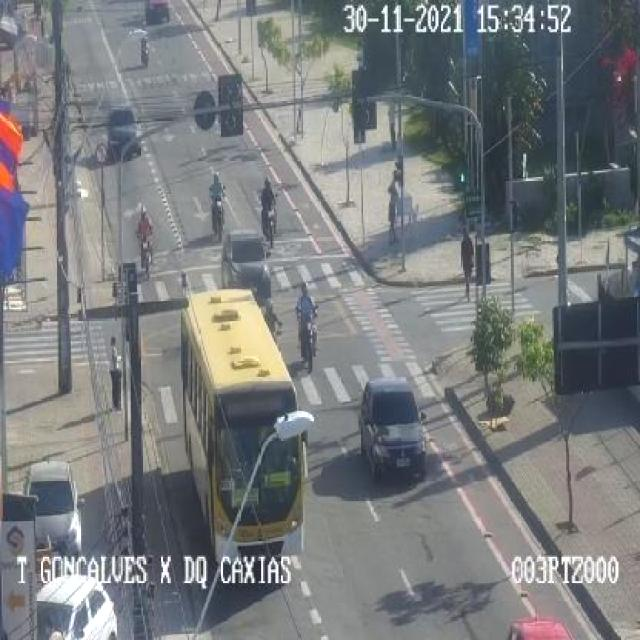Bus: (180, 288, 304, 563)
Car: (359, 378, 429, 481), (21, 461, 84, 556), (37, 574, 114, 640)
Cycle: (294, 308, 321, 373), (207, 192, 230, 240), (258, 197, 280, 243)
